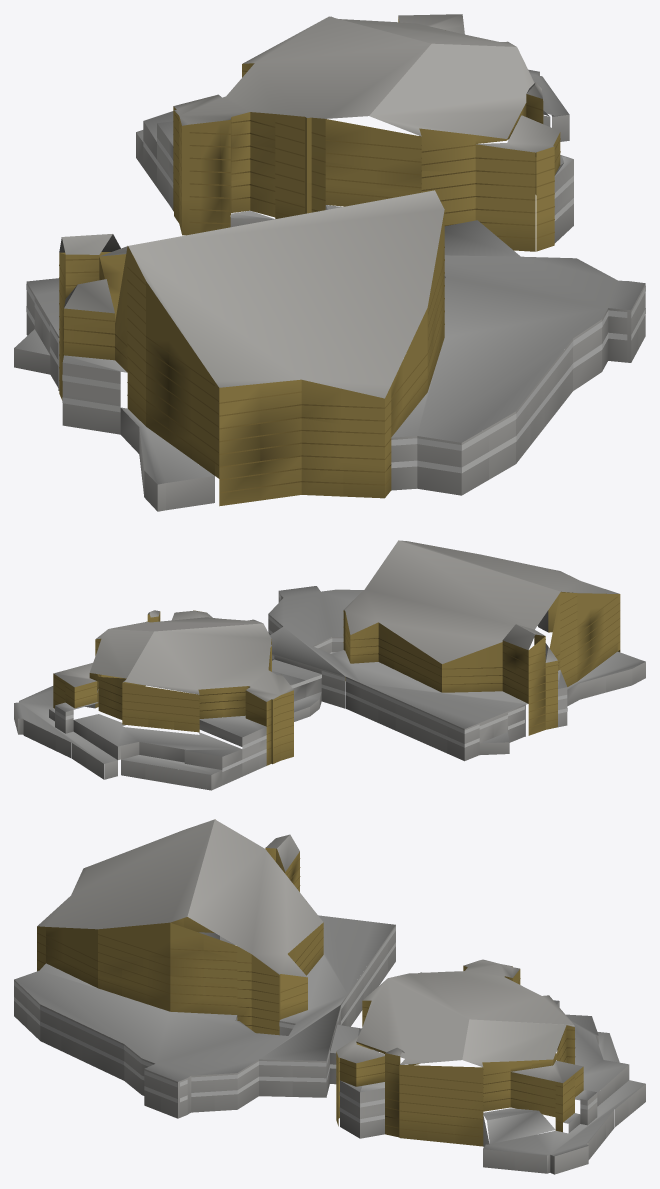
Rendered from philharmonie.glb.
3 renders of one model, top to bottom at view 1: azimuth 30°, elevation 25°; view 2: azimuth 150°, elevation 25°; view 3: azimuth 270°, elevation 25°, orthographic. The views are drawn at different scales.
Visible parts, largest first — view 1: lack, glas; view 2: lack, glas; view 3: lack, glas.
Part boxes in pixels (x1,y1,x2,y2): lack: (14, 14, 645, 511); glas: (26, 138, 645, 473); lack: (14, 540, 645, 790); glas: (55, 593, 567, 771); lack: (14, 819, 645, 1174); glas: (14, 927, 597, 1122).
Bounding box in the file's own units: 139 × 35.7 × 154.
